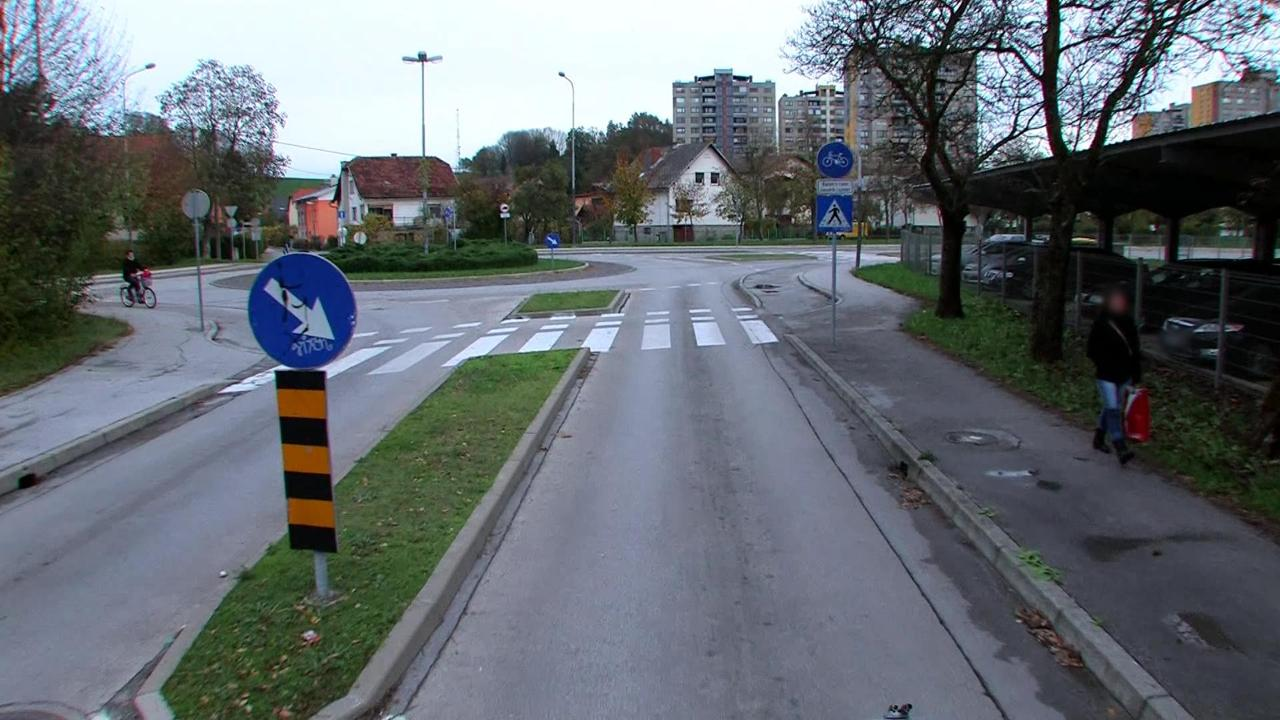Rectangle: (816, 182, 856, 196)
Round: (250, 254, 358, 371), (818, 139, 854, 177)
Squared: (814, 194, 856, 232)
